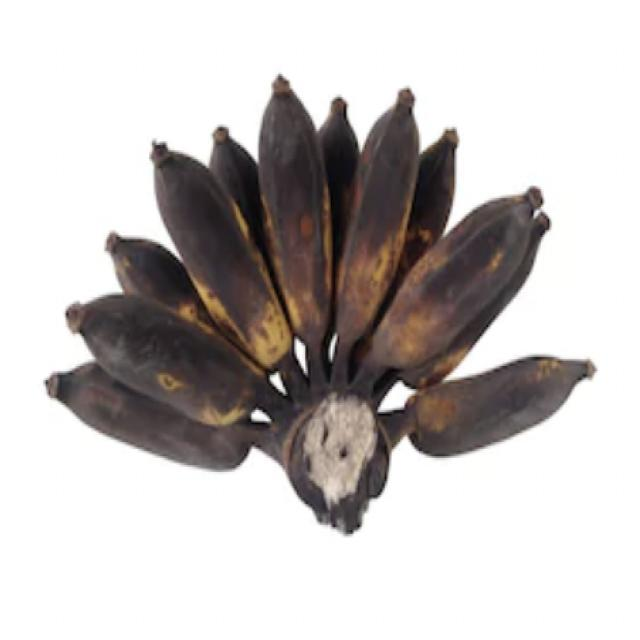rotten-banana: (366, 185, 554, 384), (151, 144, 293, 383), (44, 350, 262, 473), (73, 294, 269, 421), (338, 89, 424, 356), (403, 354, 594, 462), (263, 73, 326, 356)
